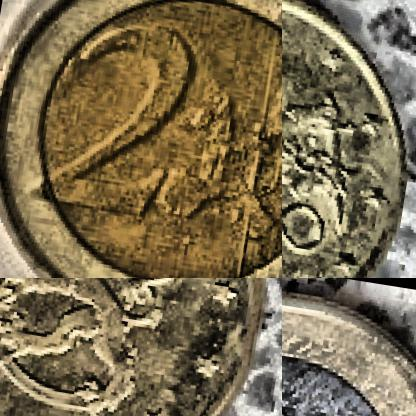coin: (0, 0, 281, 277), (0, 278, 281, 415), (282, 0, 415, 277), (282, 278, 415, 415)
